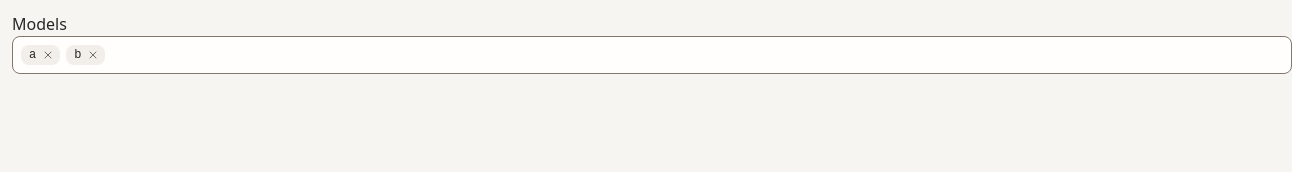
TagInput › removes a tag with its × button
Click the button named "Remove a" at (48, 55), box [40,47,56,63]
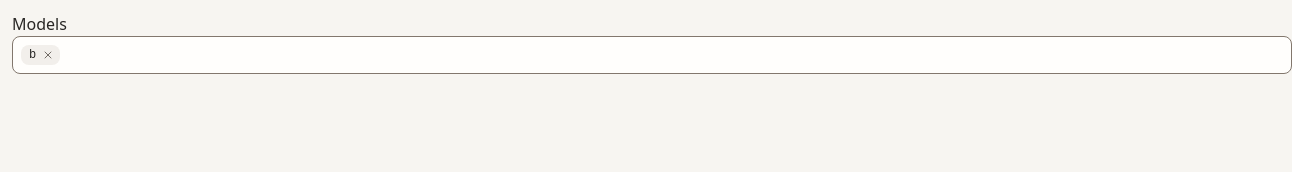
Expected: the text "b" is shown, [29,47,36,63]
Expected: the text "a" is gone
